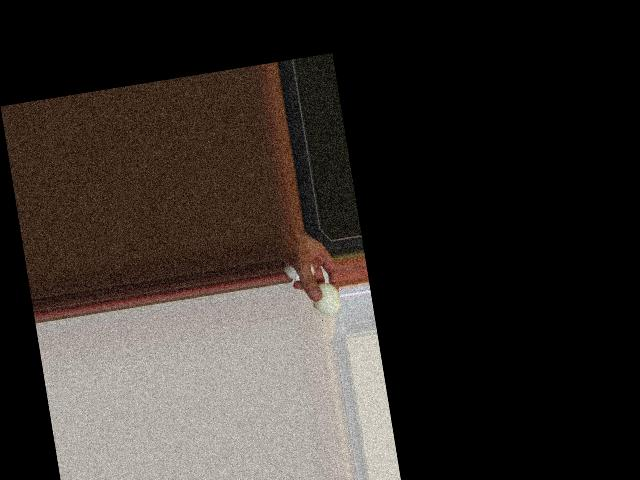egg: (310, 281, 342, 318)
